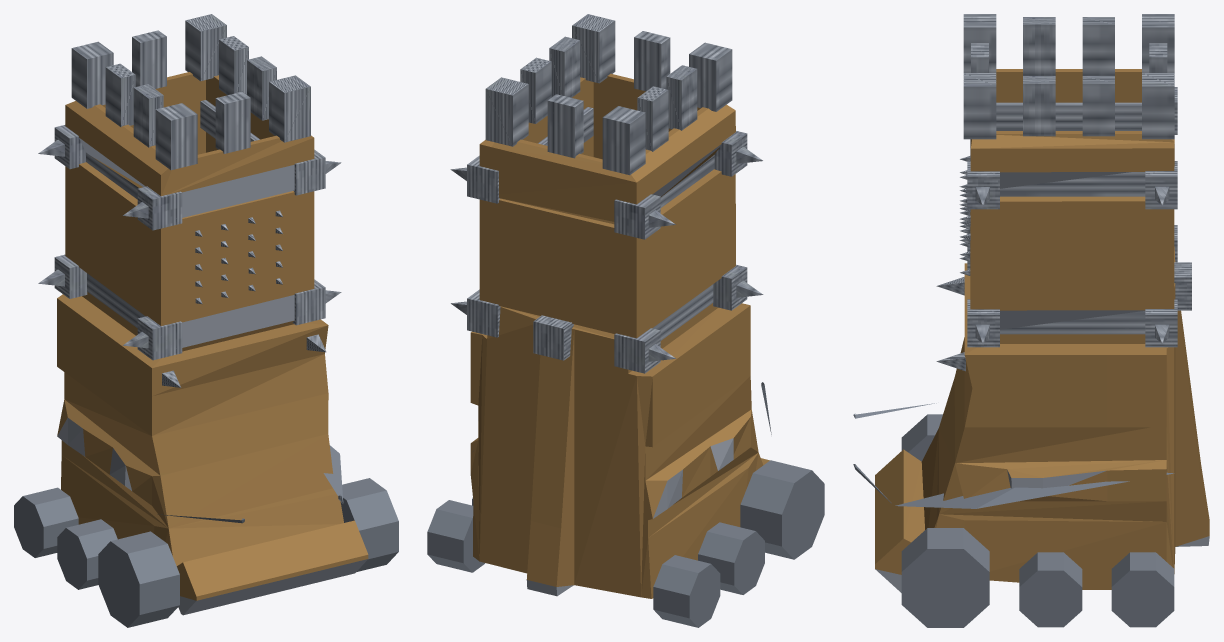
The model's file is ae_siege_tower_open_iron_lod1.glb.
The picture shows the model from 3 angles, left to right: view 1: azimuth 30°, elevation 25°; view 2: azimuth 150°, elevation 25°; view 3: azimuth 270°, elevation 25°; orthographic projection. The views are drawn at different scales.
Visible parts, largest first — view 1: siege_tower_open; view 2: siege_tower_open; view 3: siege_tower_open.
Part boxes in pixels (left/top/right/bottom): siege_tower_open: left=14, top=14, right=398, bottom=627; siege_tower_open: left=427, top=14, right=824, bottom=627; siege_tower_open: left=853, top=14, right=1209, bottom=627.
Bounding box in the file's own units: 46.39 × 82.22 × 51.97.
Materials: 4 (3 with a texture image).
